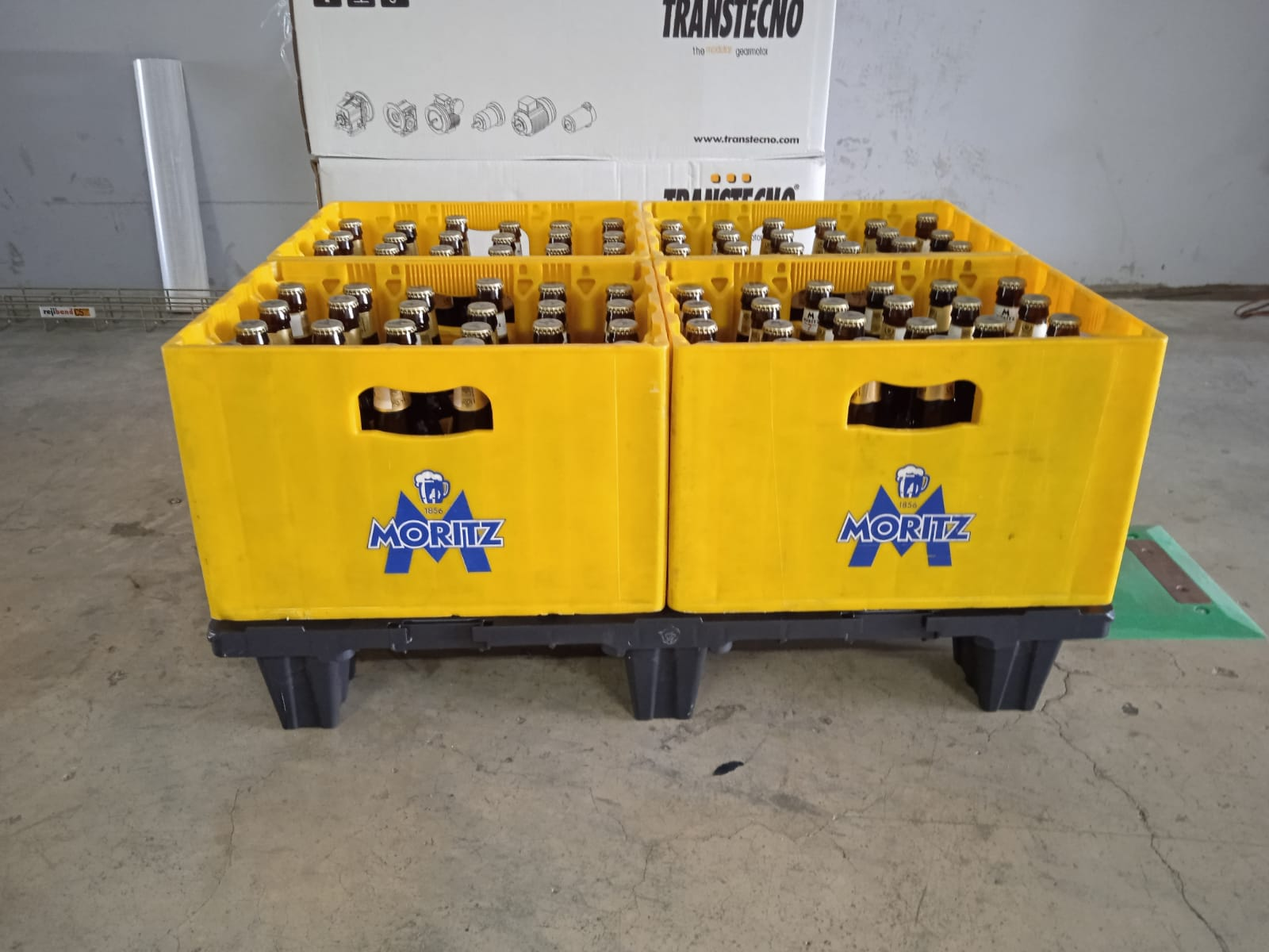block: (244, 650, 354, 746), (953, 633, 1058, 730), (625, 654, 712, 733)
front: (200, 604, 1129, 758)
hole pallet: (339, 652, 639, 727), (698, 636, 974, 714)
